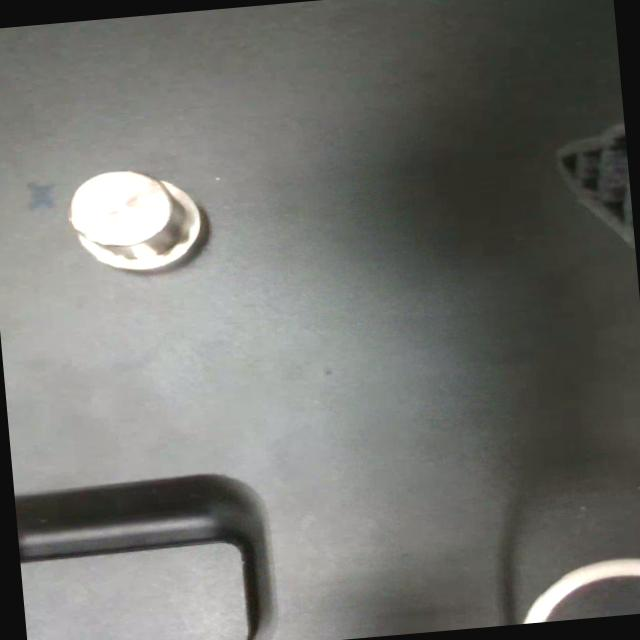sensor: (60, 159, 212, 279)
